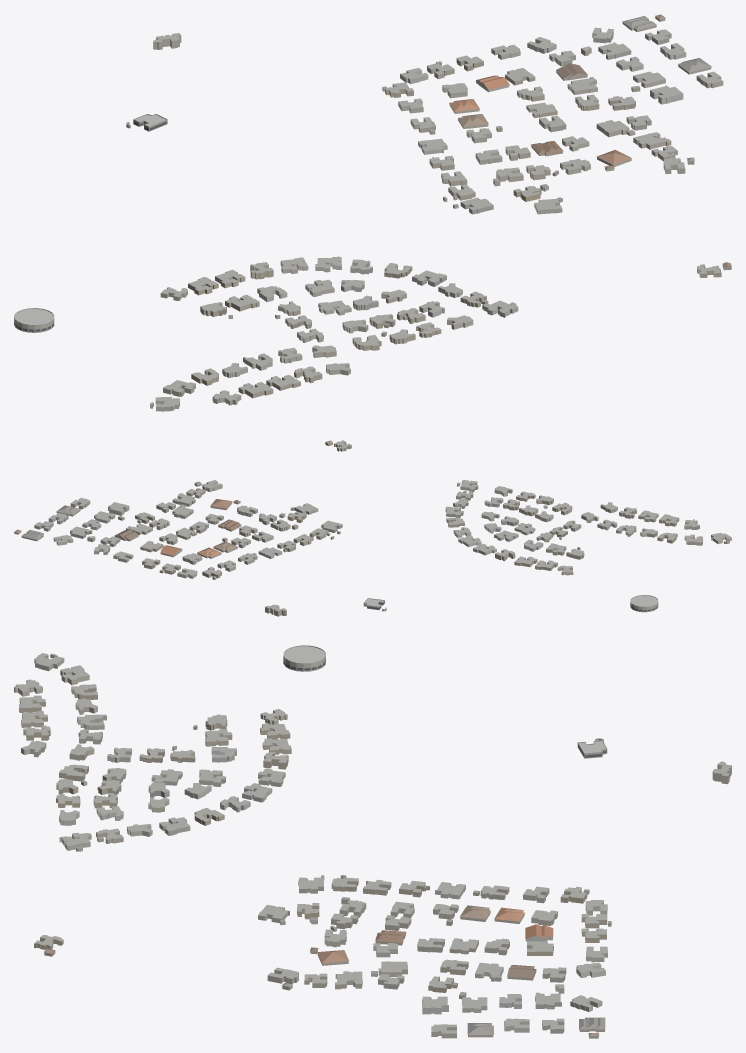
The model's file is buildings_r2_c3.glb.
3 views of the same model, one above another, from view 1: azimuth 30°, elevation 25°; view 2: azimuth 150°, elevation 25°; view 3: azimuth 270°, elevation 25° (orthographic). The views are drawn at different scales.
Visible parts, largest first — view 1: buildings_r2_c3; view 2: buildings_r2_c3; view 3: buildings_r2_c3.
Boxes of the visible parts, <box> form: buildings_r2_c3: <box>14,14,731,411</box>; buildings_r2_c3: <box>14,440,731,616</box>; buildings_r2_c3: <box>14,645,731,1038</box>.
Size of the model in its own units: 1027 by 76.74 by 769.
